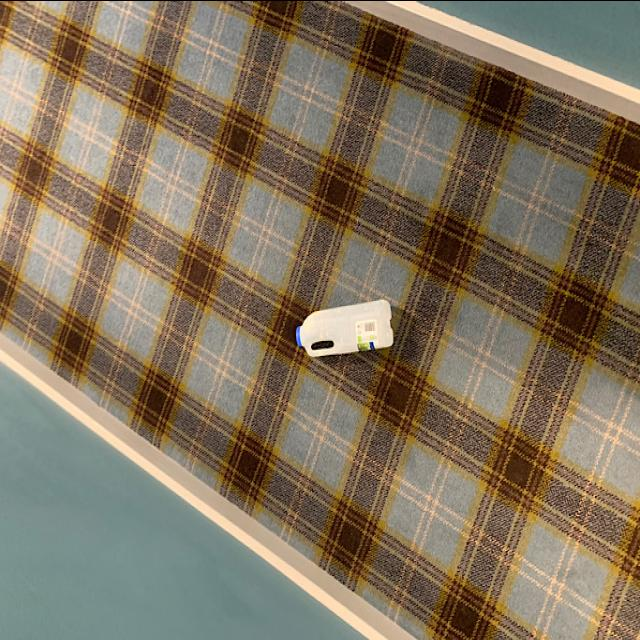HDPEM: (294, 300, 396, 360)
